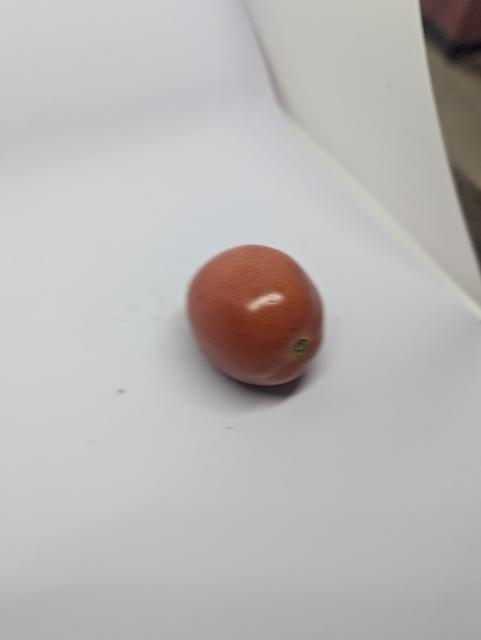red: (182, 241, 338, 403)
